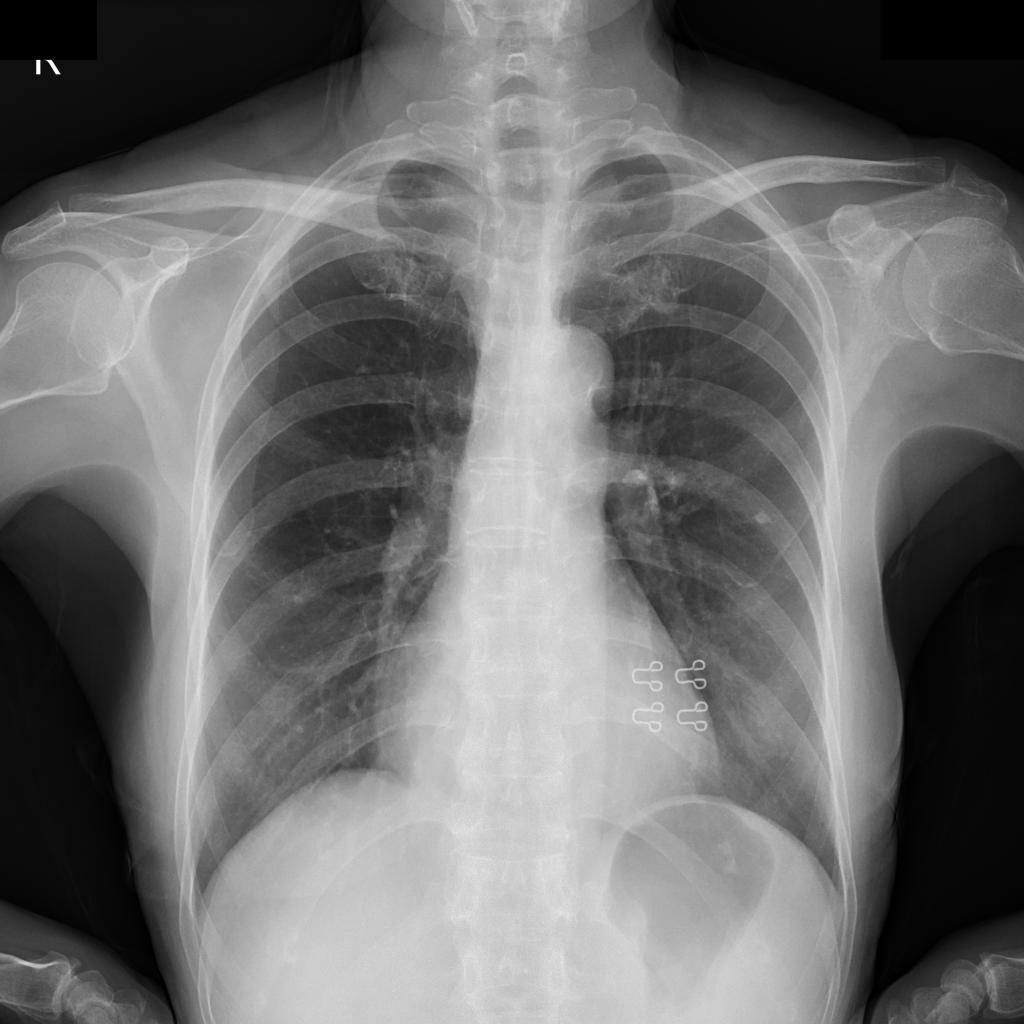Nodule: (753, 512, 775, 526)
